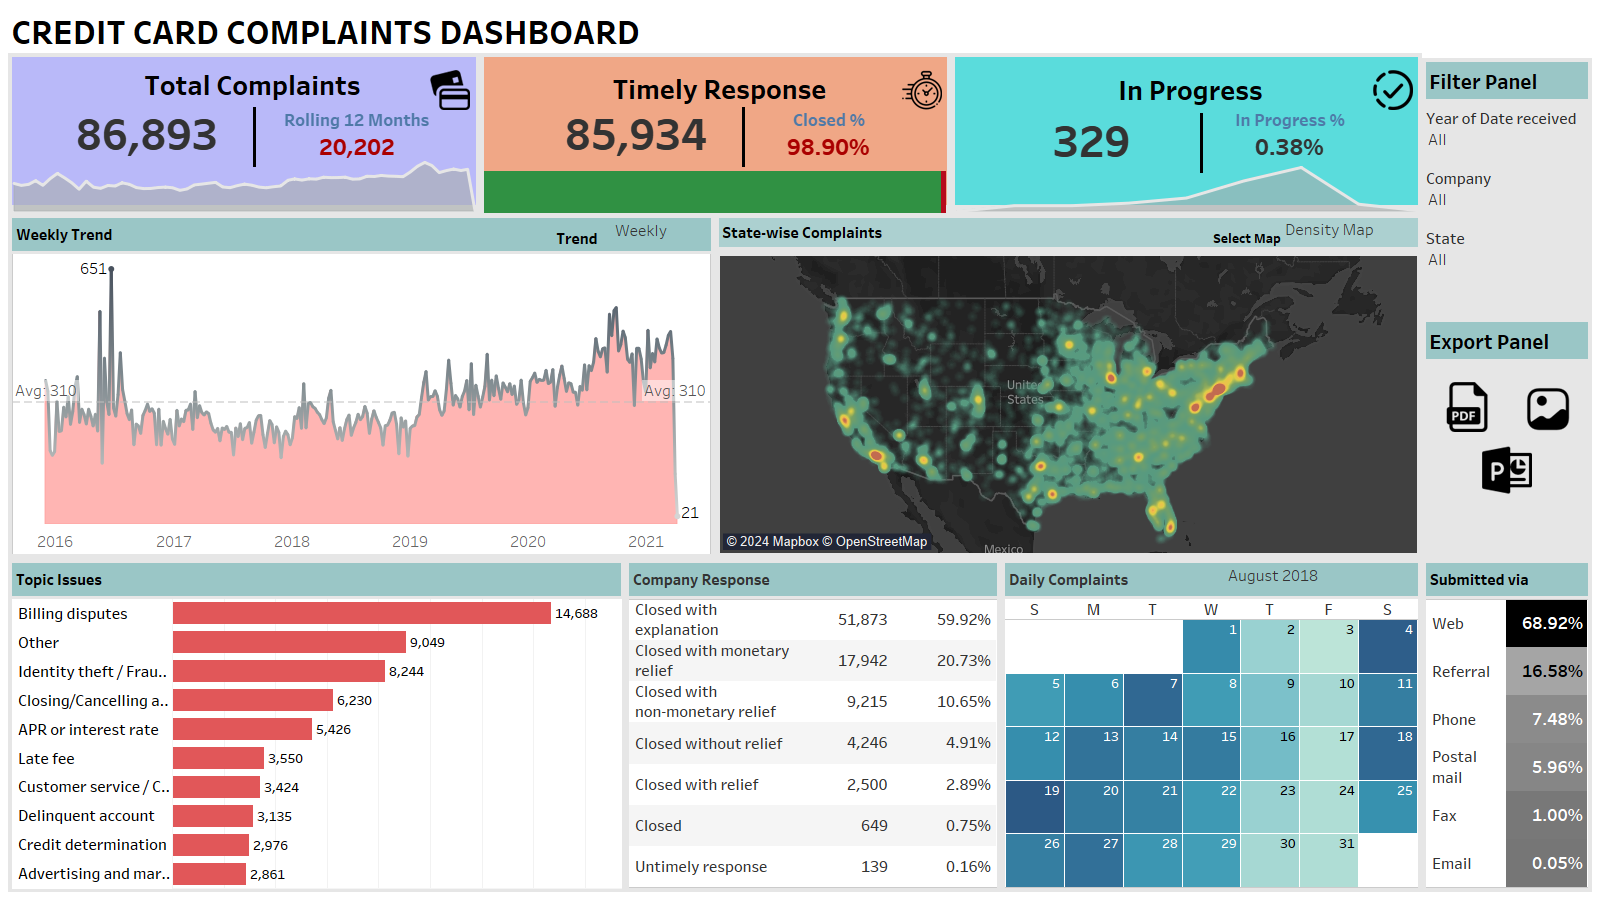

The page's visual inventory and layout, read from the dashboard file:
{"tool":"tableau","page":{"name":"CC Complaints Dashboard","canvas":[1600,900],"ordinal":0},"visuals":[{"type":"title","box":[8,8,1414,45]},{"type":"blank","box":[1422,8,170,50]},{"type":"blank","box":[8,53,472,156]},{"type":"blank","box":[480,53,471,156]},{"type":"blank","box":[951,53,471,156]},{"type":"text","box":[1422,58,170,45]},{"type":"text","box":[117,62,271,45]},{"type":"text","box":[584,66,271,45]},{"type":"text","box":[1055,67,271,45]},{"type":"image","param":"C:/Users/Shreyder/Desktop/Python/Credit Card Complaints Dashboard/icons8-credit-","box":[430,70,40,40]},{"type":"image","param":"C:/Users/Shreyder/Desktop/Python/Credit Card Complaints Dashboard/clock.png","box":[902,70,40,40]},{"type":"image","param":"C:/Users/Shreyder/Desktop/Python/Credit Card Complaints Dashboard/check.png","box":[1373,70,40,40]},{"type":"worksheet","title":"Total Complaints","mark":"Automatic","box":[37,103,220,59]},{"type":"worksheet","title":"Timely Response","mark":"Automatic","box":[526,103,220,59]},{"type":"filter","title":"Trend","param":"[federated.0p1s8au19xui041anwivl1j9iv1e].[yr:Date received:ok]","box":[1422,103,170,60]},{"type":"blank","box":[253,107,3,60]},{"type":"worksheet","title":"Rolling 12 Month Complaints","mark":"Automatic","box":[268,107,178,58]},{"type":"worksheet","title":"Closed %","mark":"Automatic","box":[740,107,178,58]},{"type":"blank","box":[742,107,3,60]},{"type":"worksheet","title":"In Progress %","mark":"Automatic","box":[1201,107,178,58]},{"type":"worksheet","title":"In Progress Complaints","mark":"Automatic","box":[982,110,220,59]},{"type":"blank","box":[1200,113,3,60]},{"type":"worksheet","title":"In Progress Sparkline","mark":"Automatic","rows":["Calculation_480759291115053063","Calculation_480759291115053063"],"cols":["Date received"],"box":[932,163,508,52]},{"type":"filter","title":"Trend","param":"[federated.0p1s8au19xui041anwivl1j9iv1e].[none:Company:nk]","box":[1422,163,170,60]},{"type":"worksheet","title":"Progress Bar","mark":"Bar","cols":["Calculation_480759291113857030","Calculation_480759291112980484"],"box":[484,164,485,56]},{"type":"worksheet","title":"Trend","mark":"Automatic","rows":["Number of Records","Number of Records"],"cols":["Calculation_480759291144421385"],"box":[8,214,707,345]},{"type":"text","box":[715,214,707,37]},{"type":"parameter","param":"[Parameters].[Parameter 3]","box":[1211,219,206,37]},{"type":"parameter","param":"[Parameters].[Parameter 2]","box":[541,220,170,37]},{"type":"filter","title":"Trend","param":"[federated.0p1s8au19xui041anwivl1j9iv1e].[none:State:nk]","box":[1422,223,170,95]},{"type":"worksheet","title":"Density Map","mark":"Heatmap","box":[715,251,707,307]},{"type":"text","box":[1422,318,170,45]},{"type":"blank","box":[1422,363,170,196]},{"type":"dashboard-object","box":[1442,382,50,50]},{"type":"dashboard-object","box":[1523,384,50,50]},{"type":"dashboard-object","box":[1482,445,50,50]},{"type":"worksheet","title":"Filled Map","mark":"Multipolygon","box":[715,558,707,1]},{"type":"worksheet","title":"Topic Issues","mark":"Automatic","rows":["Issue"],"cols":["Number of Records"],"box":[8,559,617,333]},{"type":"worksheet","title":"Company Response","mark":"Automatic","rows":["Company response to consumer"],"box":[625,559,376,333]},{"type":"worksheet","title":"Daily Complaints","mark":"Square","rows":["Date received"],"cols":["Date received"],"box":[1001,559,420.9,333]},{"type":"worksheet","title":"Submitted via","mark":"Square","rows":["Submitted via"],"box":[1422,559,170,333]},{"type":"filter","title":"Daily Complaints","param":"[federated.0p1s8au19xui041anwivl1j9iv1e].[my:Date received:ok]","box":[1226,565,191,37]}]}

Visuals, with their boxes in screenshot pixels (x1, y1, x2, y2), scaled from the page's 1600x900 canvas onto the 1600x900 screenshot:
title: BBox(8, 8, 1422, 53)
blank: BBox(1422, 8, 1592, 58)
blank: BBox(8, 53, 480, 209)
blank: BBox(480, 53, 951, 209)
blank: BBox(951, 53, 1422, 209)
text: BBox(1422, 58, 1592, 103)
text: BBox(117, 62, 388, 107)
text: BBox(584, 66, 855, 111)
text: BBox(1055, 67, 1326, 112)
image: BBox(430, 70, 470, 110)
image: BBox(902, 70, 942, 110)
image: BBox(1373, 70, 1413, 110)
"Total Complaints" worksheet: BBox(37, 103, 257, 162)
"Timely Response" worksheet: BBox(526, 103, 746, 162)
"Trend" filter: BBox(1422, 103, 1592, 163)
blank: BBox(253, 107, 256, 167)
"Rolling 12 Month Complaints" worksheet: BBox(268, 107, 446, 165)
"Closed %" worksheet: BBox(740, 107, 918, 165)
blank: BBox(742, 107, 745, 167)
"In Progress %" worksheet: BBox(1201, 107, 1379, 165)
"In Progress Complaints" worksheet: BBox(982, 110, 1202, 169)
blank: BBox(1200, 113, 1203, 173)
"In Progress Sparkline" worksheet: BBox(932, 163, 1440, 215)
"Trend" filter: BBox(1422, 163, 1592, 223)
"Progress Bar" worksheet (Bar marks): BBox(484, 164, 969, 220)
"Trend" worksheet: BBox(8, 214, 715, 559)
text: BBox(715, 214, 1422, 251)
parameter: BBox(1211, 219, 1417, 256)
parameter: BBox(541, 220, 711, 257)
"Trend" filter: BBox(1422, 223, 1592, 318)
"Density Map" worksheet (Heatmap marks): BBox(715, 251, 1422, 558)
text: BBox(1422, 318, 1592, 363)
blank: BBox(1422, 363, 1592, 559)
dashboard-object: BBox(1442, 382, 1492, 432)
dashboard-object: BBox(1523, 384, 1573, 434)
dashboard-object: BBox(1482, 445, 1532, 495)
"Filled Map" worksheet (Multipolygon marks): BBox(715, 558, 1422, 559)
"Topic Issues" worksheet: BBox(8, 559, 625, 892)
"Company Response" worksheet: BBox(625, 559, 1001, 892)
"Daily Complaints" worksheet (Square marks): BBox(1001, 559, 1422, 892)
"Submitted via" worksheet (Square marks): BBox(1422, 559, 1592, 892)
"Daily Complaints" filter: BBox(1226, 565, 1417, 602)
